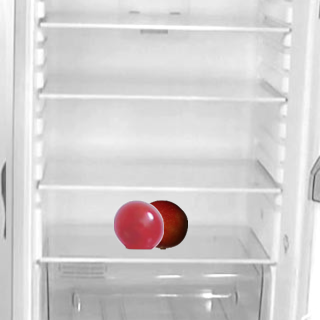Apple Braeburn: (137, 199, 187, 249)
Redcurrant: (113, 199, 163, 249)
